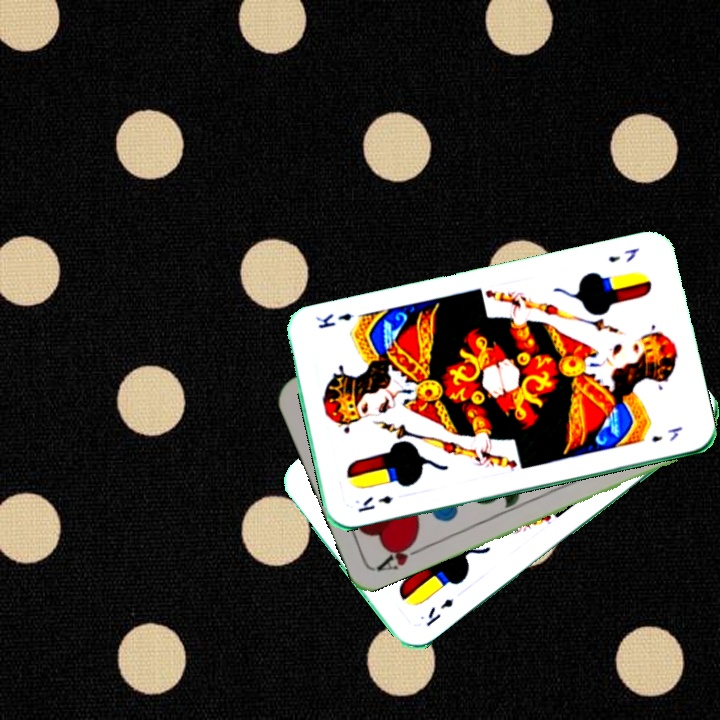EK: (422, 594, 456, 629), (354, 491, 396, 515), (604, 244, 641, 265)
HA: (372, 535, 429, 574)
